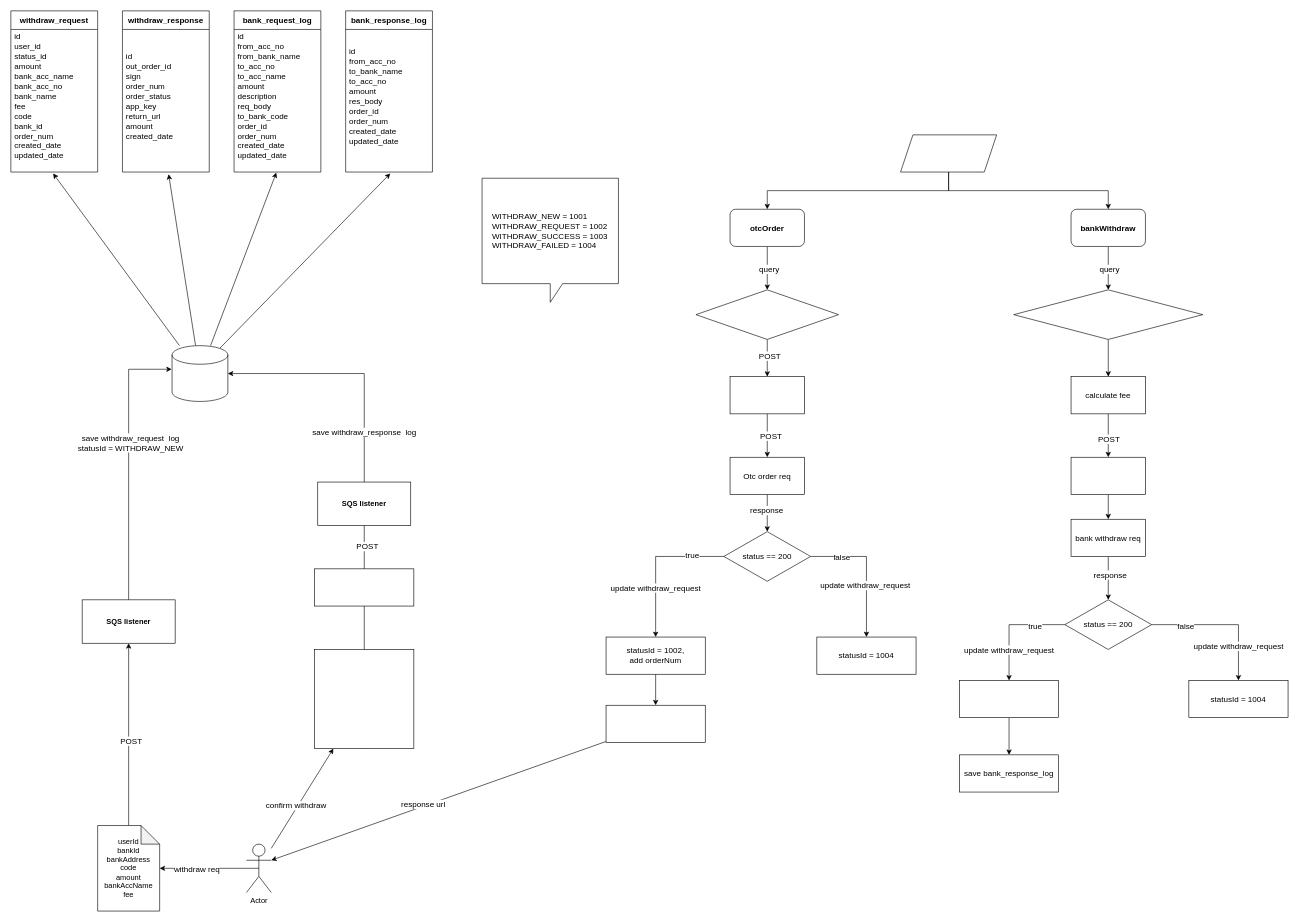
This 1299x922 diagram has some shape labels left out. Here are the shapes that lost their labels. From the top down, the centre of each, then its label:
At point 948,153: "Scheduler".
At point 767,314: "statusId = 1001 from withdraw_request".
At point 1108,314: "match orderNum&statusId = 1002 from withdraw_request".
At point 199,373: "DB".
At point 766,395: "getToken&OpenId".
At point 1107,475: "save bank_request_log".
At point 364,587: "response from chainUP".
At point 364,699: "WEB".
At point 1009,699: "statusId = 1003".
At point 655,723: "return url".
